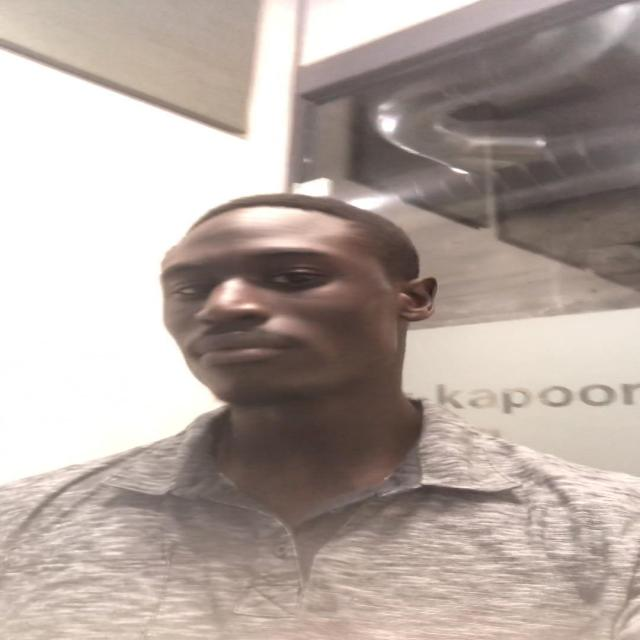face: (158, 203, 370, 407)
